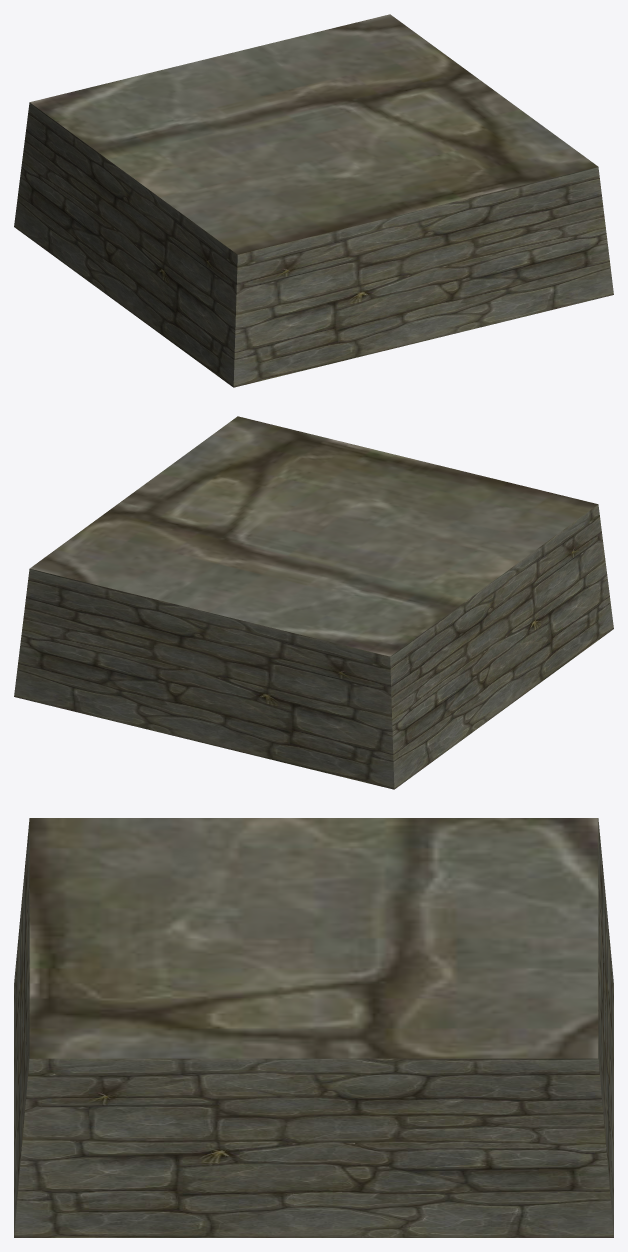
File: Ishigaki_Color.fbx
The picture shows the model from 3 angles, top to bottom: view 1: azimuth 30°, elevation 25°; view 2: azimuth 150°, elevation 25°; view 3: azimuth 270°, elevation 25°; orthographic projection. The views are drawn at different scales.
Parts seen in each view (by area): view 1: pCube1; view 2: pCube1; view 3: pCube1.
Boxes of the visible parts, x1,y1,x2,y2 form: pCube1: (14,14,613,387); pCube1: (14,416,613,789); pCube1: (14,818,613,1237).
Bounding box in the file's own units: 2109 × 670 × 2109.
Materials: 1 (1 with a texture image).
